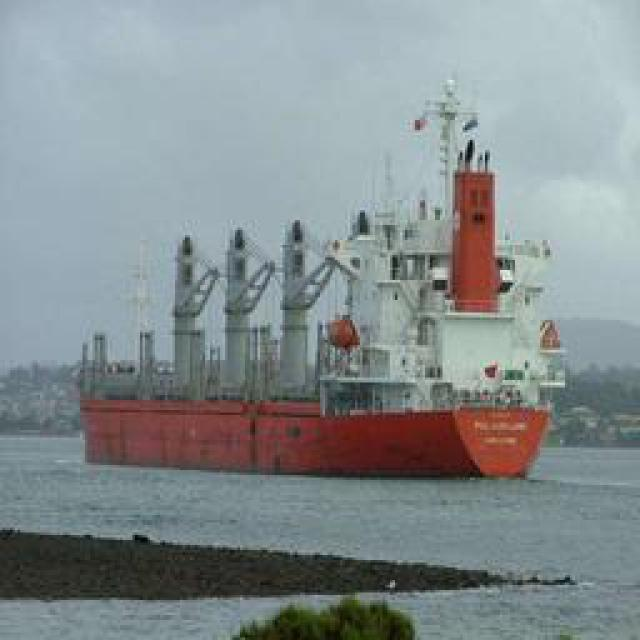Ship: (66, 52, 571, 480)
